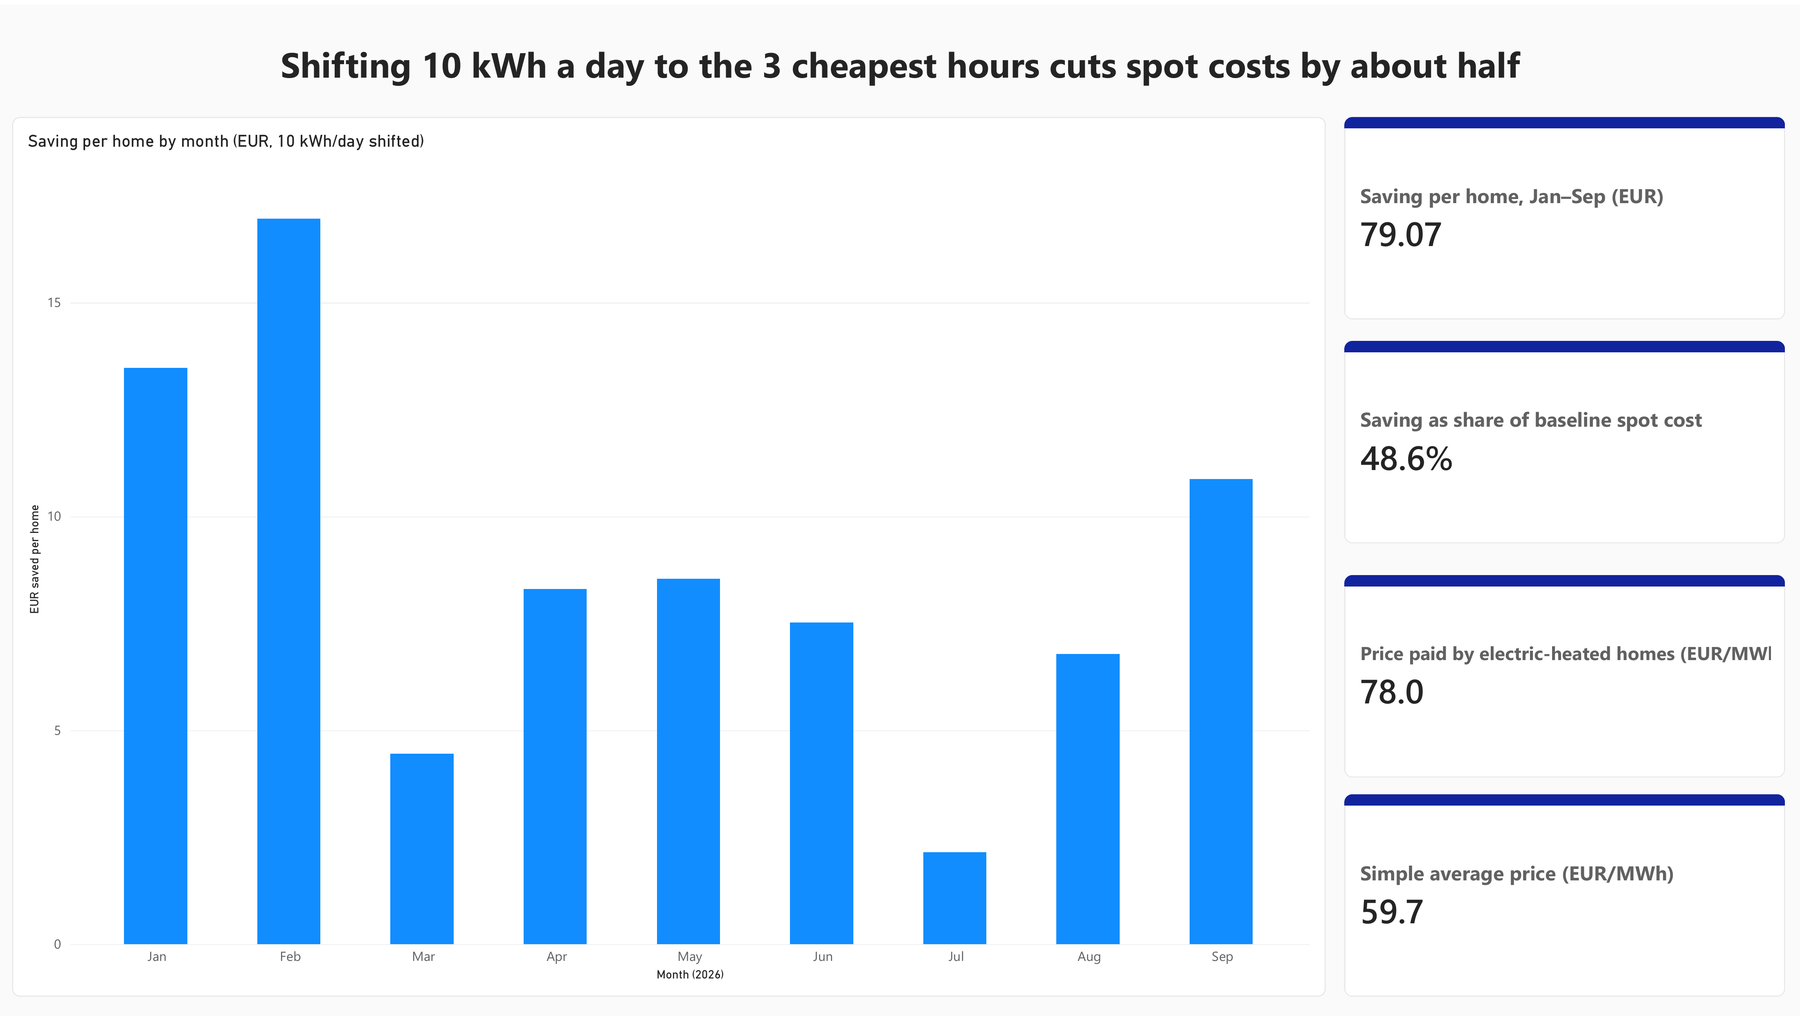

What the dashboard file says about the page in this screenshot:
{"tool":"powerbi","page":{"name":"Is it worth it?","canvas":[1920,1080],"ordinal":2},"visuals":[{"type":"cardVisual","fields":{"Data":["Consumption.Saving Per Home"]},"box":[1434.2,120.4,470.6,216.4],"z":0},{"type":"cardVisual","fields":{"Data":["Consumption.Saving Share"]},"box":[1434.2,359.1,470.6,216.4],"z":1000},{"type":"cardVisual","fields":{"Data":["Consumption.BE02 Weighted Price"]},"box":[1434.2,608.9,470.6,216.4],"z":2000},{"type":"clusteredColumnChart","title":"Saving per home by month (EUR, 10 kWh/day shifted)","fields":{"Category":["Daily.MonthName"],"Y":["Consumption.Saving Per Home"]},"box":[13.4,120.4,1400.8,939.1],"z":3000},{"type":"textbox","box":[91.9,0,1737,120.4],"z":4000},{"type":"cardVisual","fields":{"Data":["Consumption.Avg Price"]},"box":[1434.2,843.1,470.6,216.4],"z":5000}]}

Visuals, with their boxes in screenshot pixels (x1, y1, x2, y2), scaled from the page's 1920x1080 canvas onto the 1800x1021 screenshot:
cardVisual - Consumption.Saving Per Home: (x1=1345, y1=114, x2=1786, y2=318)
cardVisual - Consumption.Saving Share: (x1=1345, y1=339, x2=1786, y2=544)
cardVisual - Consumption.BE02 Weighted Price: (x1=1345, y1=576, x2=1786, y2=780)
"Saving per home by month (EUR, 10 kWh/day shifted)" clusteredColumnChart: (x1=13, y1=114, x2=1326, y2=1002)
textbox: (x1=86, y1=0, x2=1715, y2=114)
cardVisual - Consumption.Avg Price: (x1=1345, y1=797, x2=1786, y2=1002)
